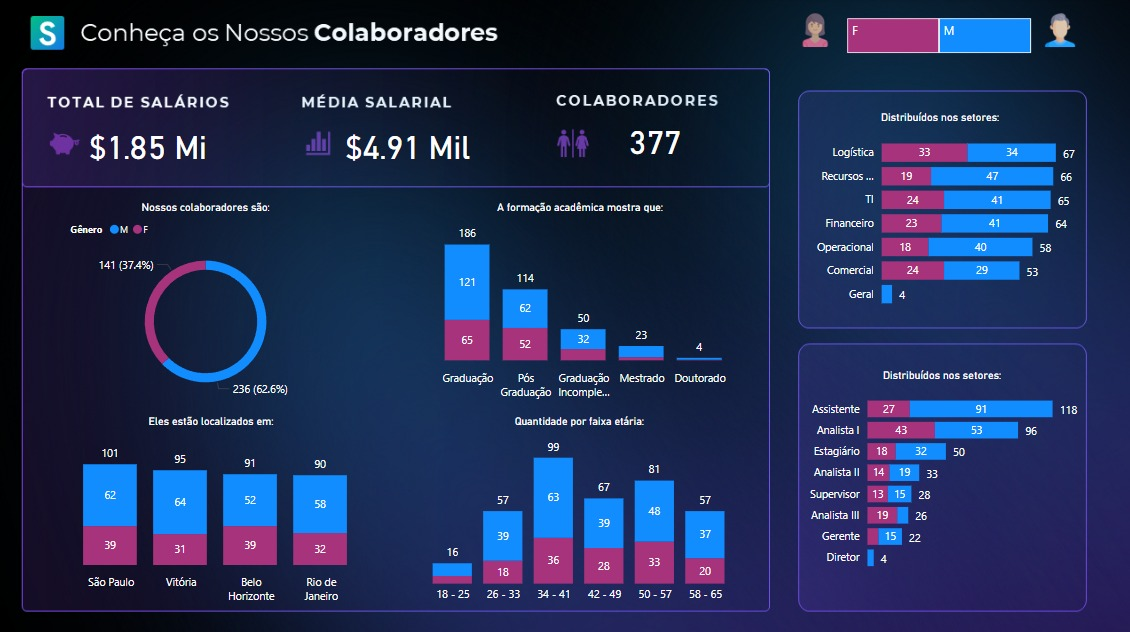

What the dashboard file says about the page in this screenshot:
{"tool":"powerbi","page":{"name":"Análises","canvas":[1280,720],"ordinal":1},"visuals":[{"type":"actionButton","box":[39.4,18.2,39.4,40.9],"z":0},{"type":"card","fields":{"Values":["MEDIDAS.Total de Salários"]},"box":[98.8,127.5,143.8,76.2],"z":1000},{"type":"card","fields":{"Values":["MEDIDAS.Média de salarios"]},"box":[382.5,127.5,163.8,76.2],"z":2000},{"type":"donutChart","title":"Nossos colaboradores são:","fields":{"Category":["TB_DADOS.Genero"],"Y":["MEDIDAS.Colaboradores"]},"box":[78.9,228.9,314.4,231.1],"z":3000},{"type":"columnChart","title":"A formação acadêmica mostra que:","fields":{"Category":["TB_DADOS.Escolaridade"],"Y":["MEDIDAS.Colaboradores"],"Series":["TB_DADOS.Genero"]},"box":[465.6,229,385.2,230.5],"z":4000},{"type":"card","fields":{"Values":["MEDIDAS.Colaboradores"]},"box":[670.3,121.3,144.1,75.8],"z":5000},{"type":"columnChart","title":"Eles estão localizados em: ","fields":{"Category":["TB_DADOS.Cidade"],"Y":["MEDIDAS.Colaboradores"],"Series":["TB_DADOS.Genero"]},"box":[50,470,385,220],"z":6000},{"type":"barChart","title":"Distribuídos nos setores:","fields":{"Category":["TB_DADOS.Setor"],"Y":["MEDIDAS.Colaboradores"],"Series":["TB_DADOS.Genero"]},"box":[905.7,127.1,315.7,232.9],"z":7000},{"type":"barChart","title":"Distribuídos nos setores:","fields":{"Category":["TB_DADOS.Cargo"],"Y":["MEDIDAS.Colaboradores"],"Series":["TB_DADOS.Genero"]},"box":[905.7,418.6,320,237.1],"z":8000},{"type":"columnChart","title":"Quantidade por faixa etária:","fields":{"Y":["MEDIDAS.Colaboradores"],"Series":["TB_DADOS.Genero"],"Category":["TB_DADOS.Faixa_etaria"]},"box":[464.3,470,385.7,220],"z":9000},{"type":"treemap","fields":{"Group":["TB_DADOS.Genero"],"Values":["Count(TB_DADOS.Genero)"]},"box":[954.4,17.8,216.7,48.9],"z":10000}]}

Visuals, with their boxes in screenshot pixels (x1, y1, x2, y2), scaled from the page's 1280x720 canvas onto the 1130x632 screenshot:
actionButton: <box>35,16,70,52</box>
card - MEDIDAS.Total de Salários: <box>87,112,214,179</box>
card - MEDIDAS.Média de salarios: <box>338,112,482,179</box>
"Nossos colaboradores são:" donutChart: <box>70,201,347,404</box>
"A formação acadêmica mostra que:" columnChart: <box>411,201,751,403</box>
card - MEDIDAS.Colaboradores: <box>592,106,719,173</box>
"Eles estão localizados em: " columnChart: <box>44,413,384,606</box>
"Distribuídos nos setores:" barChart: <box>800,112,1078,316</box>
"Distribuídos nos setores:" barChart: <box>800,367,1082,576</box>
"Quantidade por faixa etária:" columnChart: <box>410,413,750,606</box>
treemap - TB_DADOS.Genero x Count(TB_DADOS.Genero): <box>843,16,1034,59</box>
